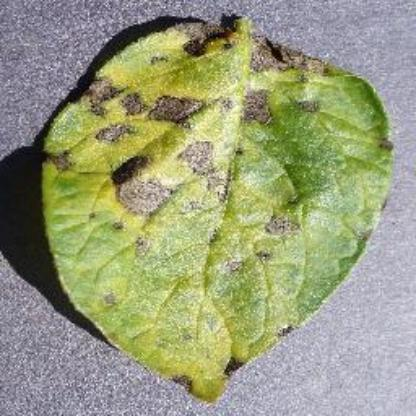Early-Blight: (38, 10, 398, 398)
